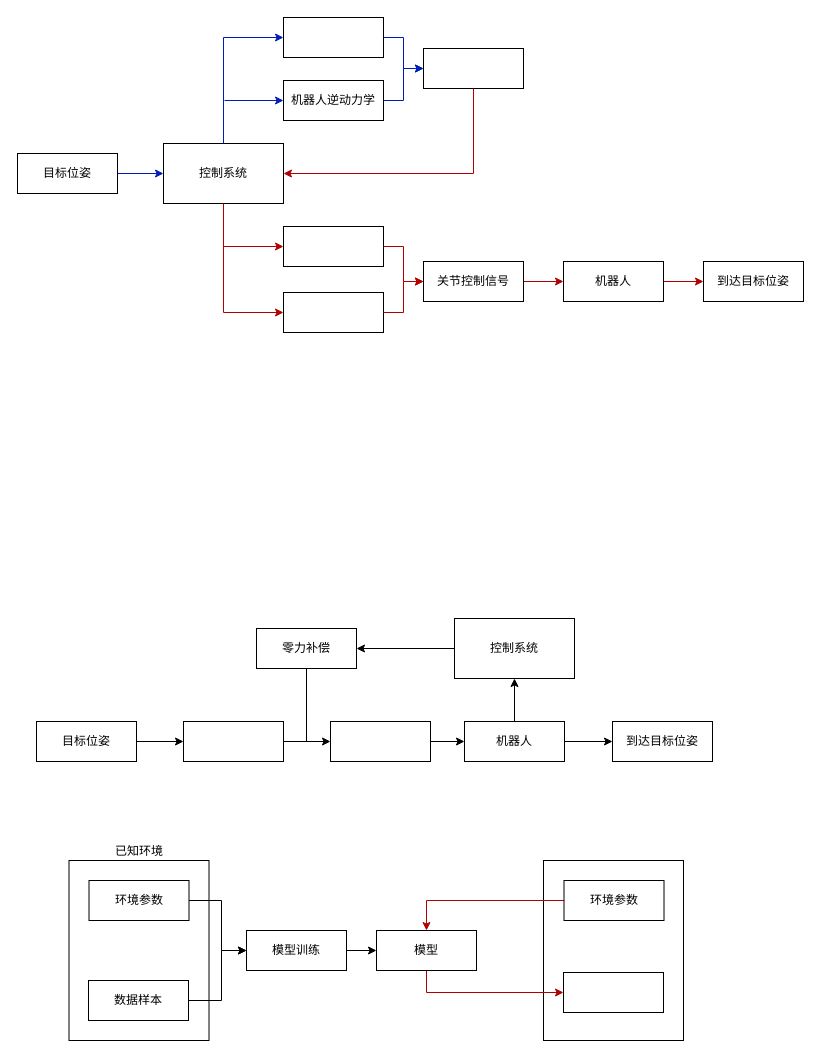
Image size: 821x1058. Some labels were removed from this diagram. Here are the shapes that lost their labels. From the top down, the box of each, then its label:
(282, 16, 384, 58): 机器人逆运动学
(422, 48, 524, 88): 关节控制信息
(282, 226, 384, 266): 机器人运动学
(282, 292, 384, 332): 机器人动力学
(182, 720, 284, 762): 用户
(330, 720, 430, 762): 直接抓取
(542, 860, 684, 1040): 陌生环境
(562, 972, 664, 1012): 生成数据
